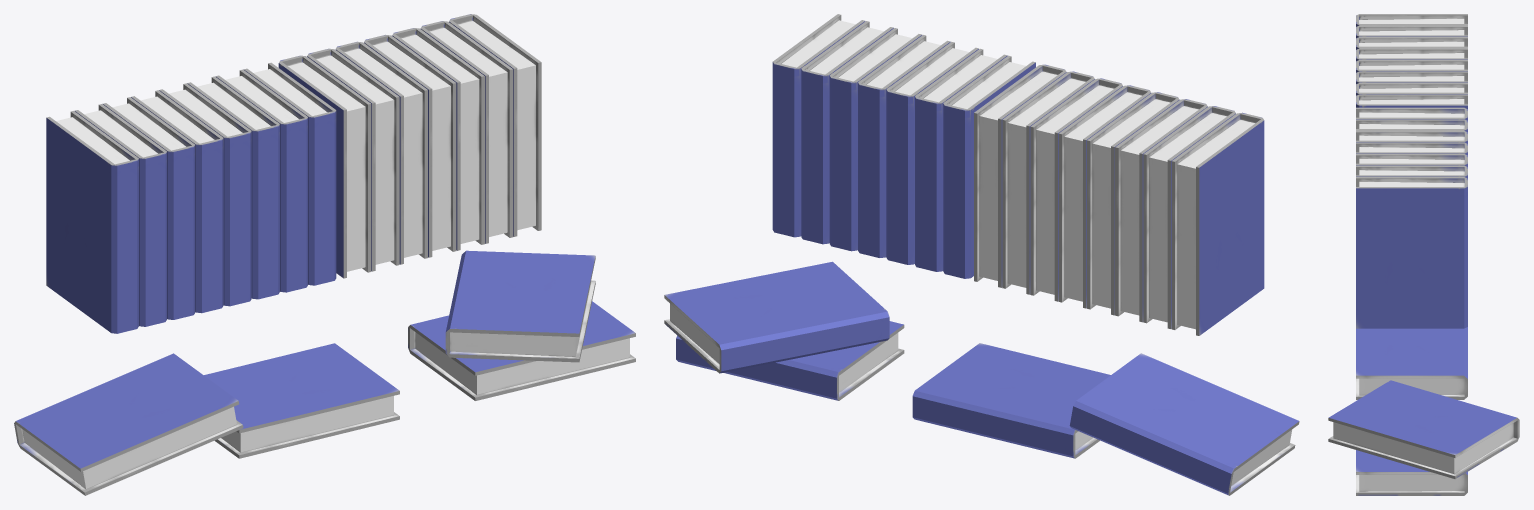
The model's file is Books.FBX.
3 views of the same model, side by side, from view 1: azimuth 30°, elevation 25°; view 2: azimuth 150°, elevation 25°; view 3: azimuth 270°, elevation 25° (orthographic). The views are drawn at different scales.
Visible parts, largest first — view 1: Box032, Box025, Box017, Box033, Box018, Box015, Box026, Box028, Box031, Box030, Box029, Box027 (+7 smaller); view 2: Box032, Box025, Box017, Box033, Box015, Box031, Box026, Box028, Box030, Box027, Box020, Box029 (+7 smaller); view 3: Box031, Box017, Box033, Box018, Box008, Box015, Box027, Box026, Box020, Box019, Box028, Box021 (+6 smaller).
Boxes of the visible parts, left/top/right/bottom form: Box032: left=14, top=353, right=243, bottom=495; Box025: left=46, top=111, right=138, bottom=333; Box017: left=445, top=250, right=595, bottom=362; Box033: left=204, top=343, right=399, bottom=458; Box018: left=408, top=301, right=635, bottom=400; Box015: left=278, top=55, right=371, bottom=278; Box026: left=307, top=48, right=399, bottom=271; Box028: left=364, top=34, right=456, bottom=257; Box031: left=449, top=14, right=541, bottom=236; Box030: left=420, top=21, right=513, bottom=243; Box029: left=392, top=28, right=484, bottom=250; Box027: left=335, top=41, right=427, bottom=264; Box032: left=1069, top=353, right=1299, bottom=495; Box025: left=1171, top=112, right=1264, bottom=335; Box017: left=664, top=261, right=889, bottom=373; Box033: left=912, top=343, right=1110, bottom=458; Box015: left=943, top=55, right=1035, bottom=278; Box031: left=772, top=14, right=865, bottom=237; Box026: left=915, top=48, right=1007, bottom=271; Box028: left=858, top=35, right=950, bottom=257; Box030: left=801, top=21, right=893, bottom=244; Box027: left=886, top=41, right=978, bottom=264; Box020: left=1030, top=78, right=1122, bottom=301; Box029: left=829, top=28, right=921, bottom=251; Box031: left=1356, top=177, right=1467, bottom=328; Box017: left=1328, top=380, right=1519, bottom=478; Box033: left=1356, top=327, right=1467, bottom=399; Box018: left=1356, top=450, right=1467, bottom=495; Box008: left=1356, top=94, right=1467, bottom=108; Box015: left=1356, top=107, right=1467, bottom=120; Box027: left=1356, top=130, right=1467, bottom=143; Box026: left=1356, top=119, right=1467, bottom=132; Box020: left=1356, top=71, right=1467, bottom=83; Box019: left=1356, top=83, right=1467, bottom=95; Box028: left=1356, top=142, right=1467, bottom=155; Box021: left=1356, top=60, right=1467, bottom=72.
Size of the model in its own units: 131 by 70.07 by 45.04.
Materials: 1 (1 with a texture image).
